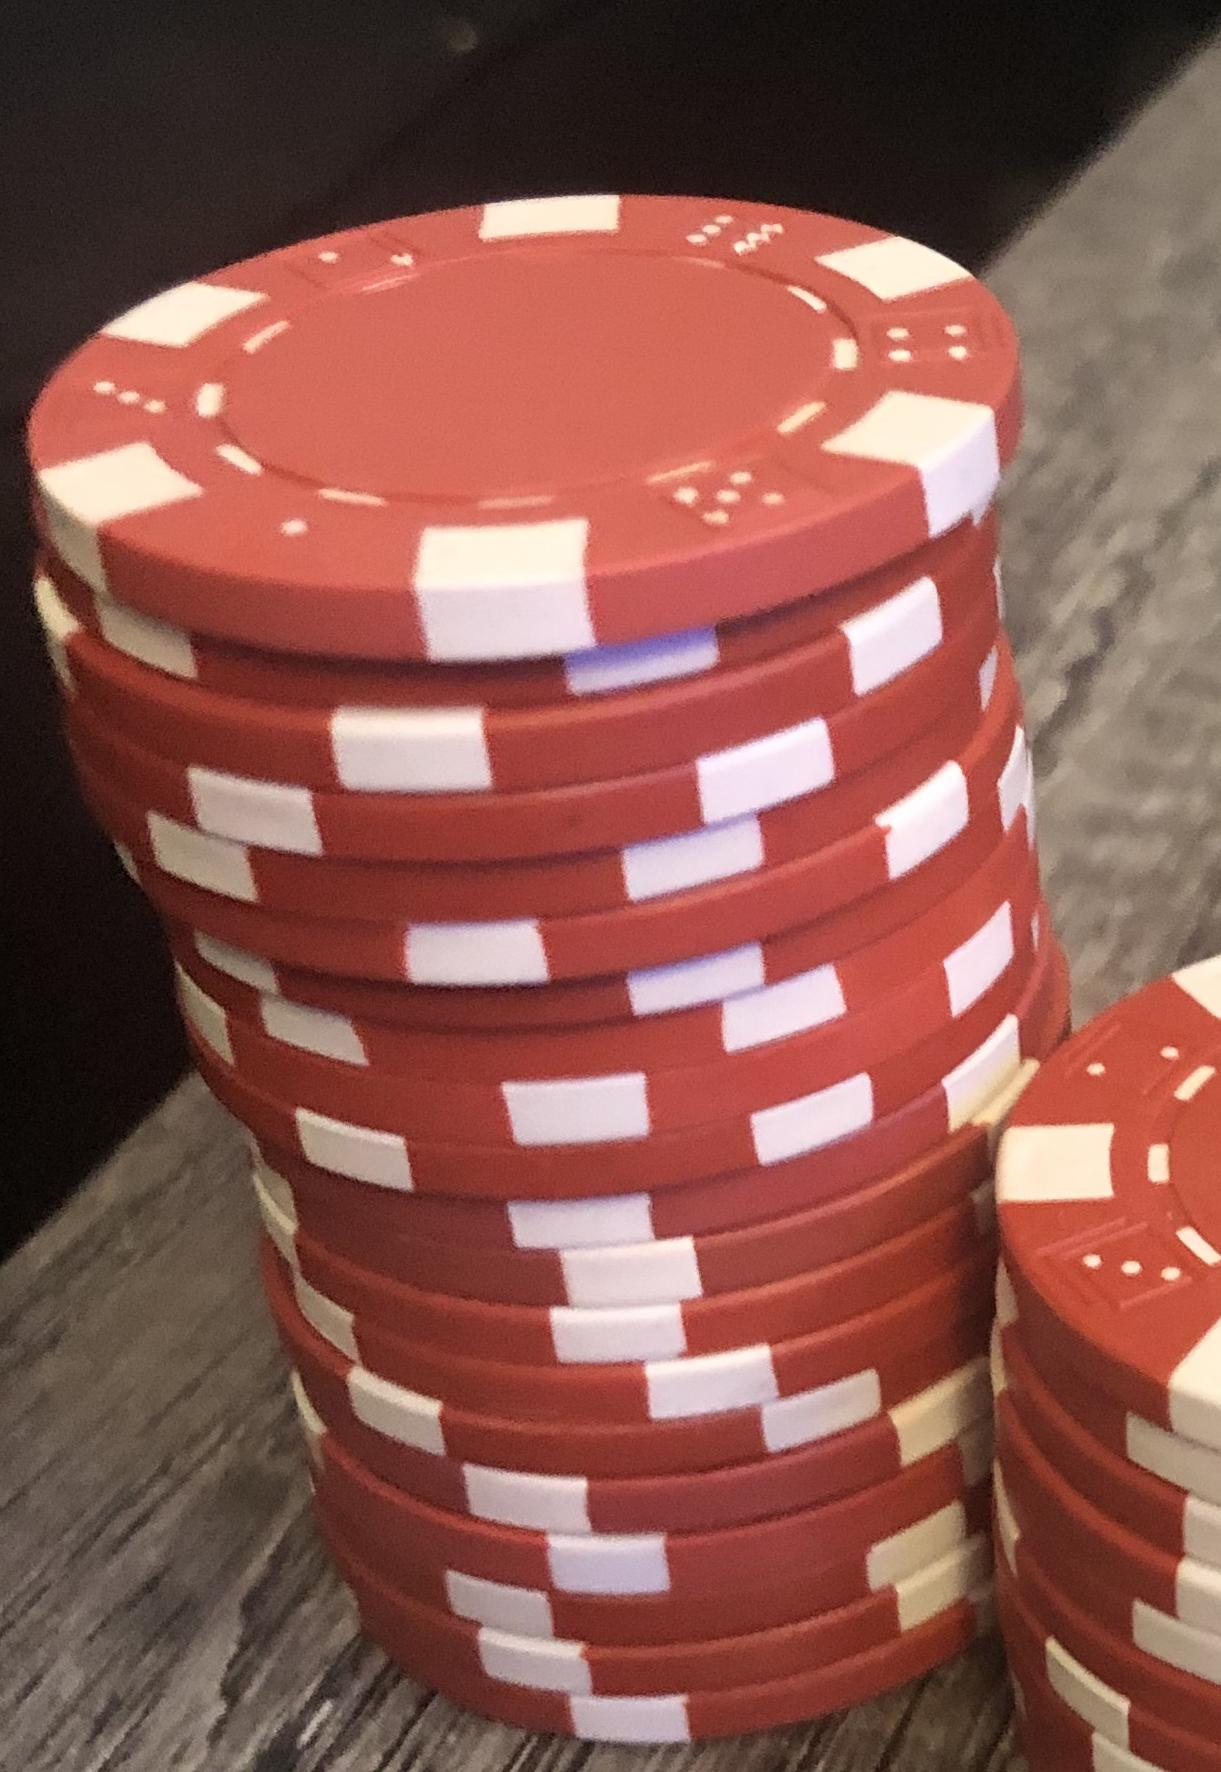Chip: (1, 1, 1221, 1772)
